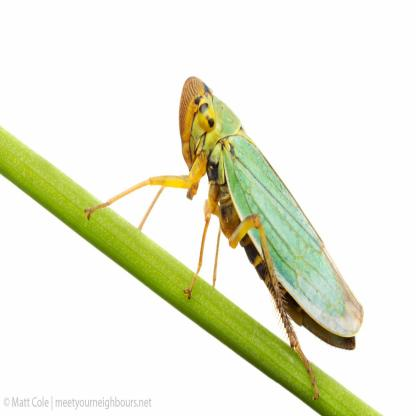Green-Leafhopper: (86, 75, 362, 383)
